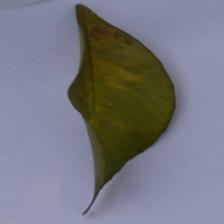greening: (62, 46, 166, 135)
